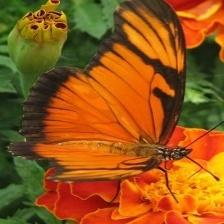butterfly: (9, 0, 191, 180)
